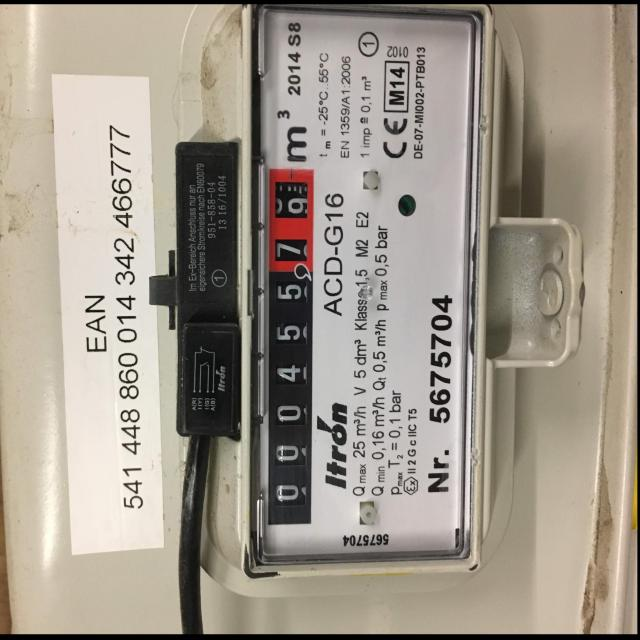gaz_meter: (254, 4, 468, 554)
indication: (270, 167, 315, 525)
